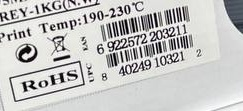1d: (105, 32, 194, 67)
